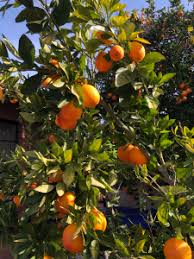orange: (163, 236, 194, 259), (77, 82, 104, 108), (64, 222, 84, 252), (58, 103, 80, 129), (130, 149, 151, 170), (128, 42, 147, 62), (115, 140, 132, 162), (96, 51, 110, 75), (110, 43, 125, 64)
